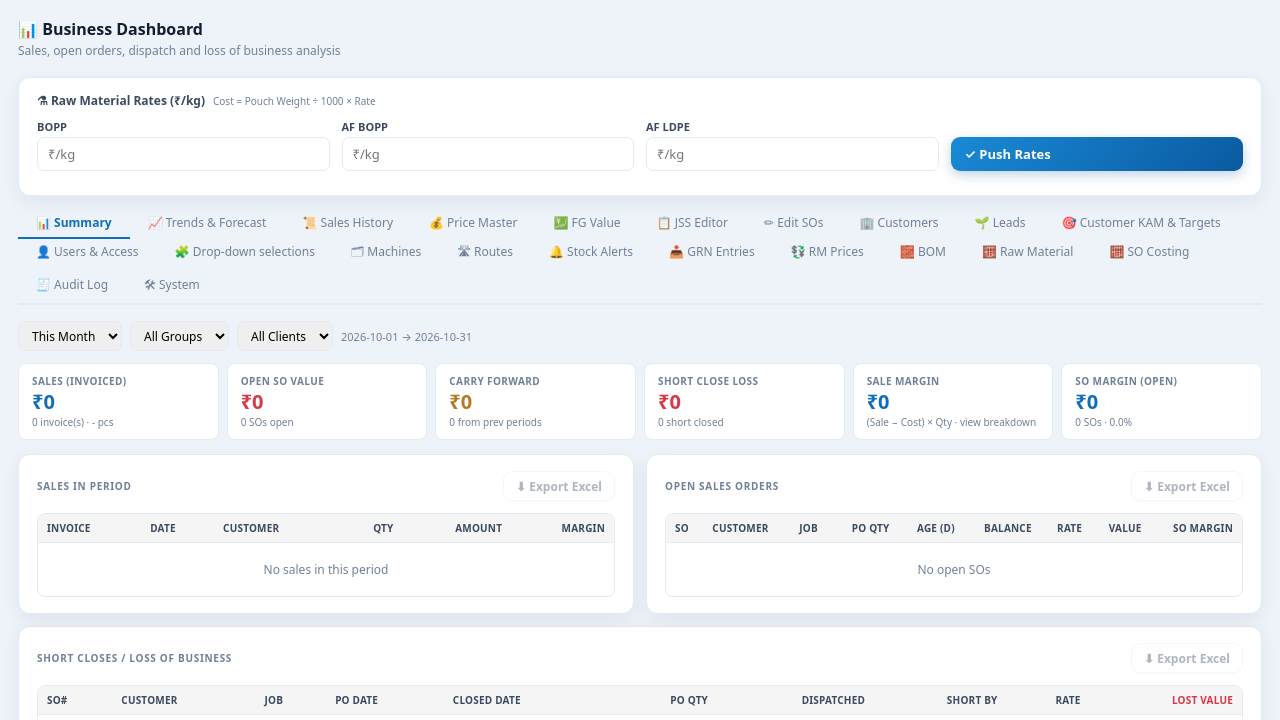
Dashboard — newly integrated superadmin APIs › Audit Log tab loads /api/audit and lists entries
Click the text "🧾 Audit Log" at (72, 284), box [36,276,108,293]
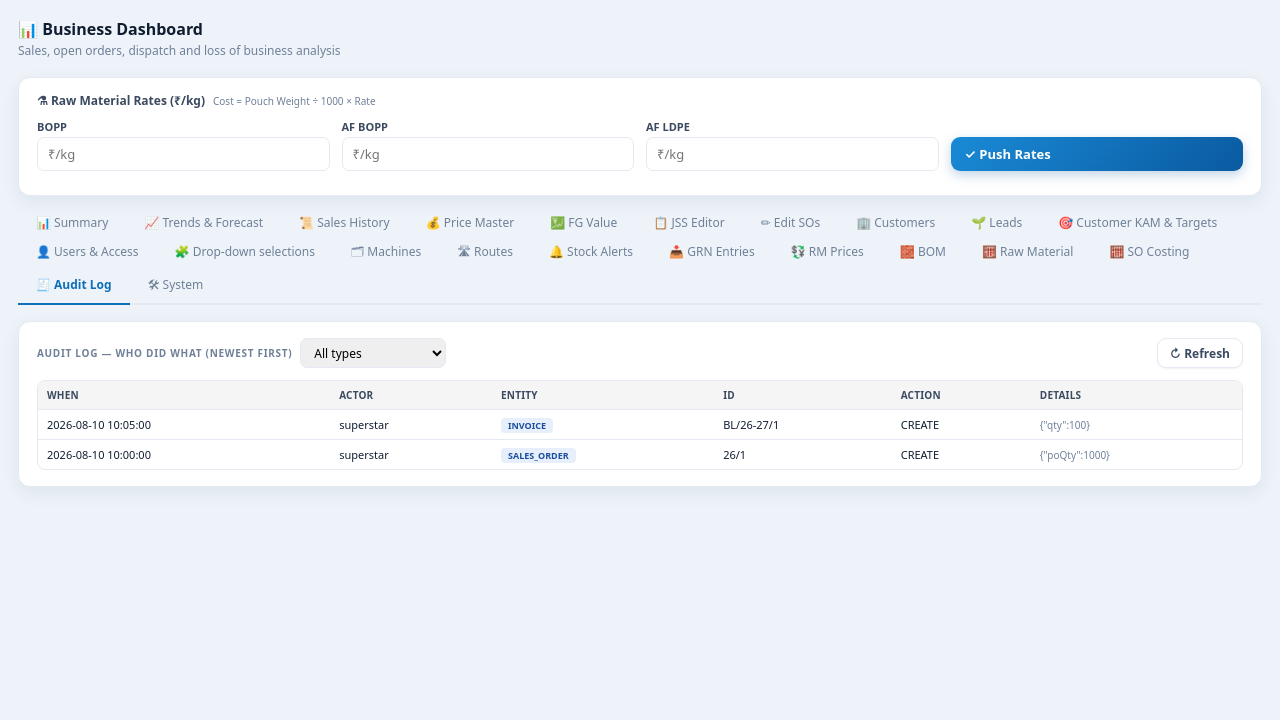
Result: the text "BL/26-27/1" is shown at [714,410,892,440]
Result: the text "Audit Log — who did what (newest first)" is shown at [37,346,292,360]
